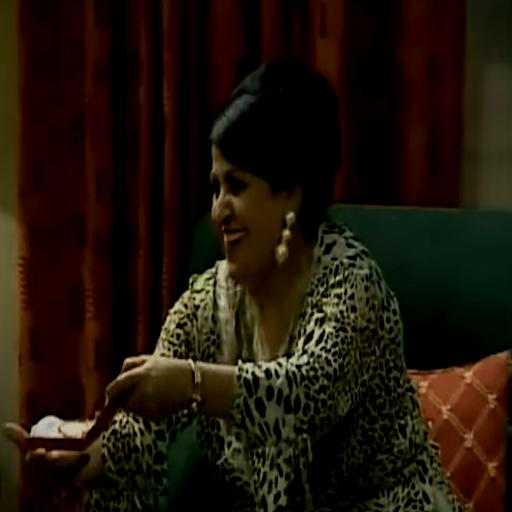jannet: (209, 84, 300, 294)
